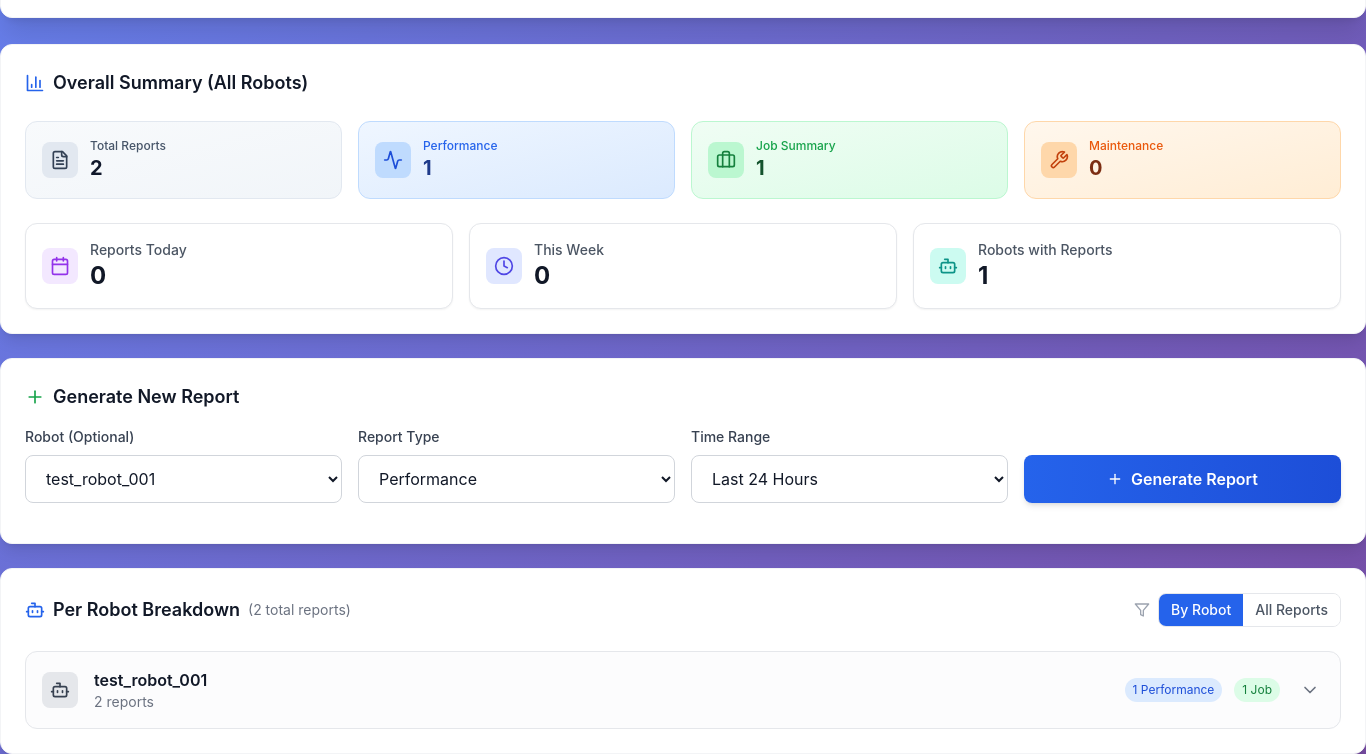
Test: Reports Page - Delete Functionality › has robot group that can be expanded
(page scrolled)
Click the heading "test_robot_001" at (151, 680), box [94, 668, 207, 692]
(page scrolled)
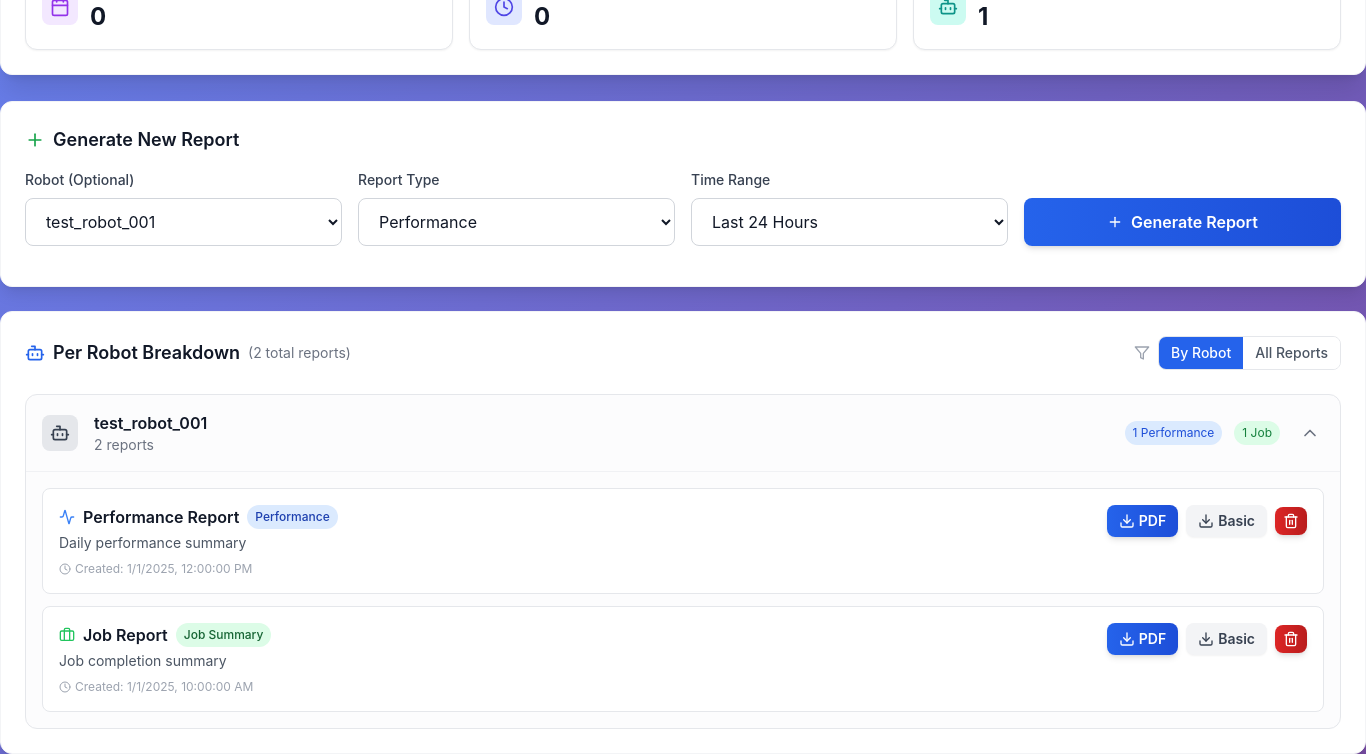
Expected: the button titled "Delete Report" in the row of "Performance Report" is shown, [1275, 507, 1307, 535]
